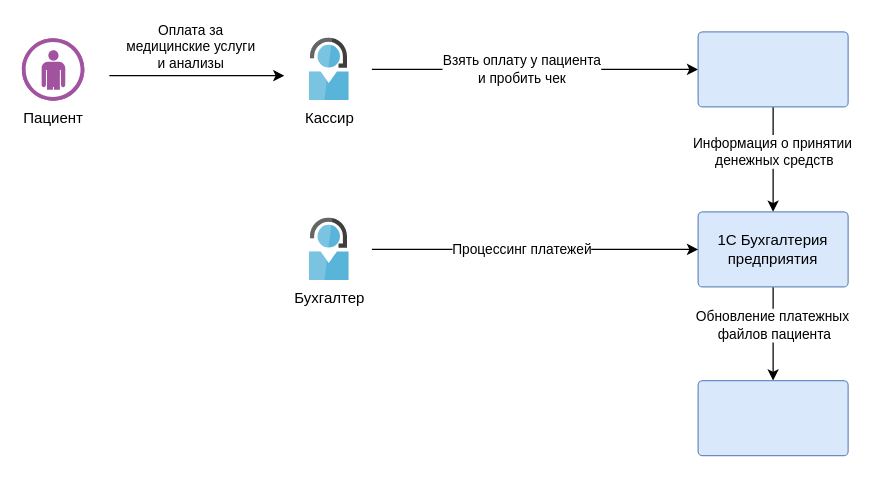
The diagram is 876 pixels wide and 478 high, and some of its shapes have lost their labels. Here are the shapes that lost their labels. From the top down, the centre of each, then its label:
At pixel 772 69: "Контрольно-кассовая машина".
At pixel 772 417: "Файлы пациента в разных форматах".
